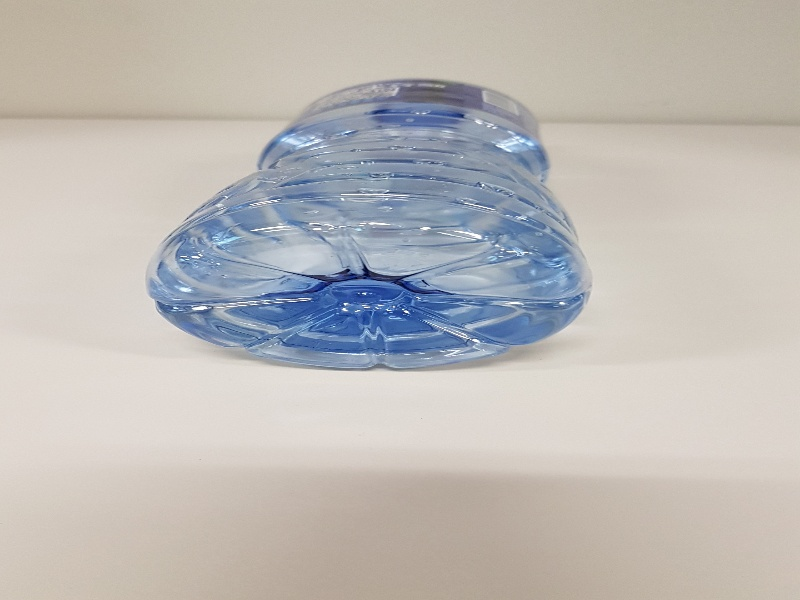Bottle: (144, 79, 594, 370)
